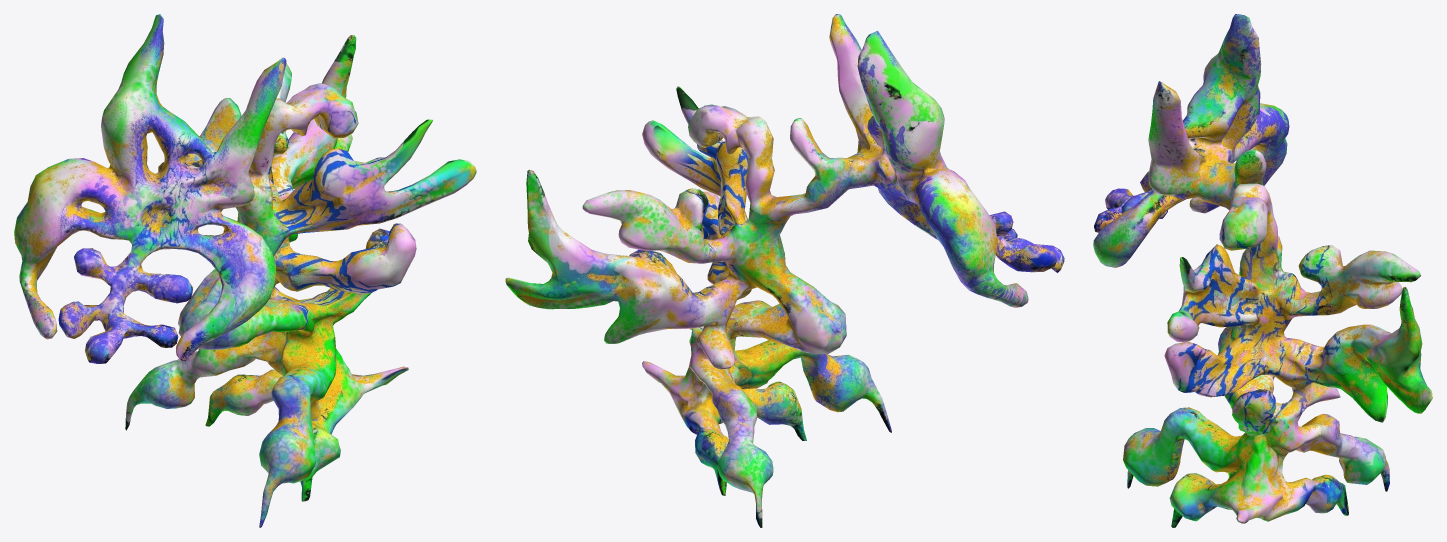
File: shr-orchid.glb
The picture shows the model from 3 angles, left to right: view 1: azimuth 30°, elevation 25°; view 2: azimuth 150°, elevation 25°; view 3: azimuth 270°, elevation 25°; orthographic projection. The views are drawn at different scales.
Parts seen in each view (by area): view 1: geometry_0; view 2: geometry_0; view 3: geometry_0.
Part boxes in pixels (x1,y1,x2,y2): geometry_0: (14,14,476,527); geometry_0: (505,14,1064,527); geometry_0: (1093,14,1432,527).
Size of the model in its own units: 0.9392 by 1 by 0.666.
1 material, 1 textured.
